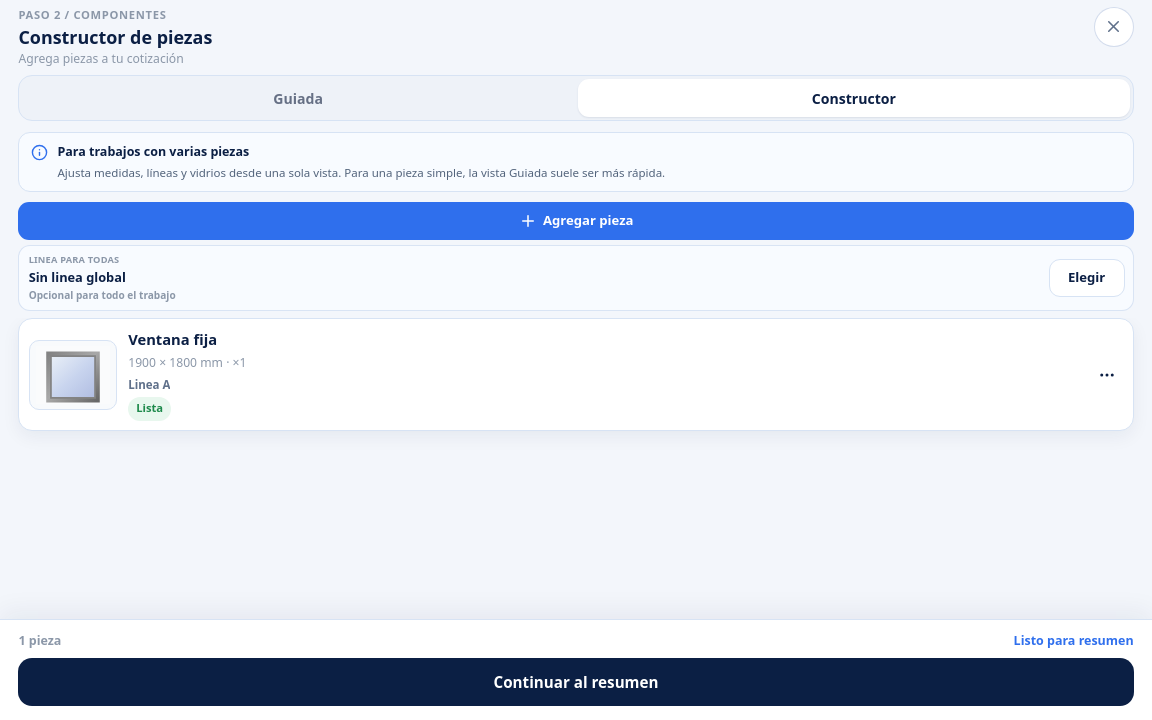
PasoDosCuadernoMovil › conserva las medidas comerciales al abrir una composicion con config antigua
Click the button named "acciones de".
click(1107, 374)  # box [1089, 356, 1125, 392]
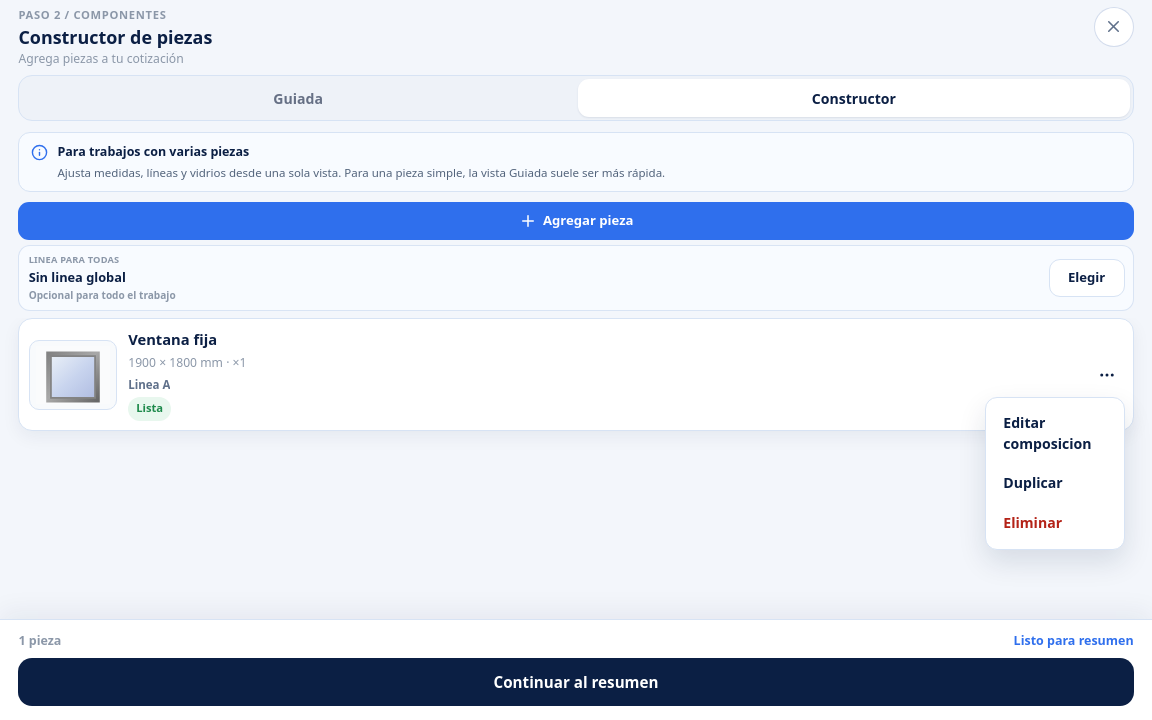
Click the menu item "Editar composicion".
click(1055, 433)  # box [991, 403, 1118, 463]
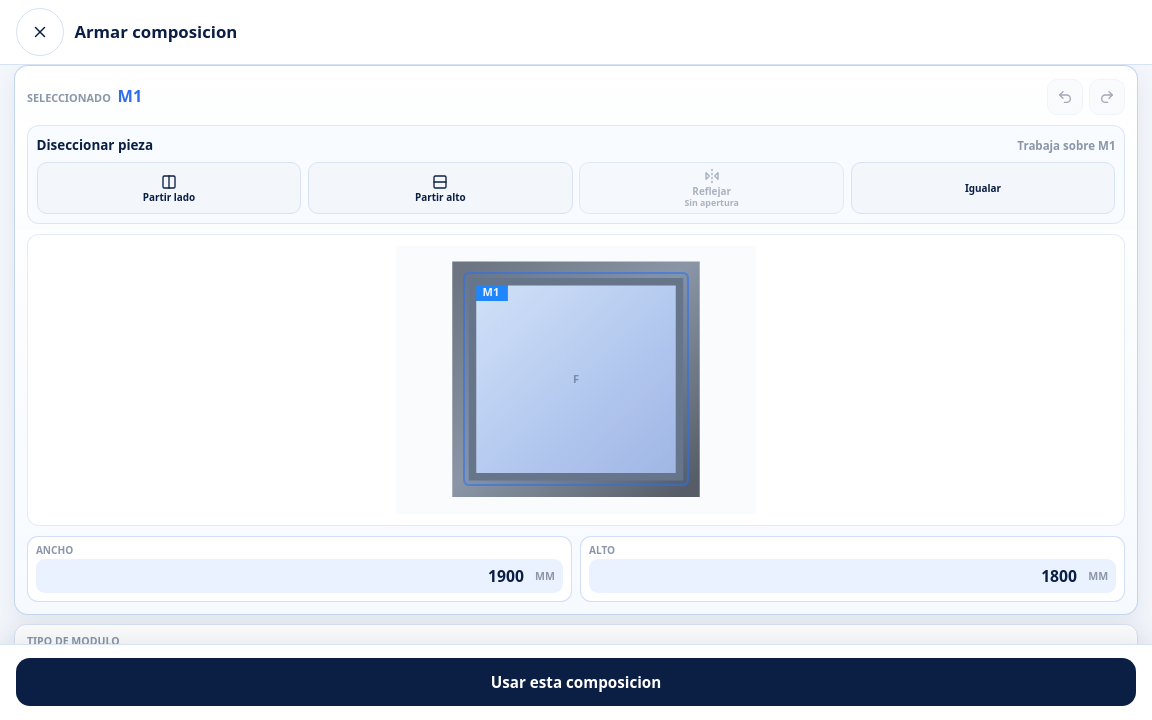
Check: the field named "Ancho de la composicion" holds "1900", box [36, 560, 531, 594]
Check: the field named "Alto de la composicion" holds "1800", box [589, 560, 1084, 594]
